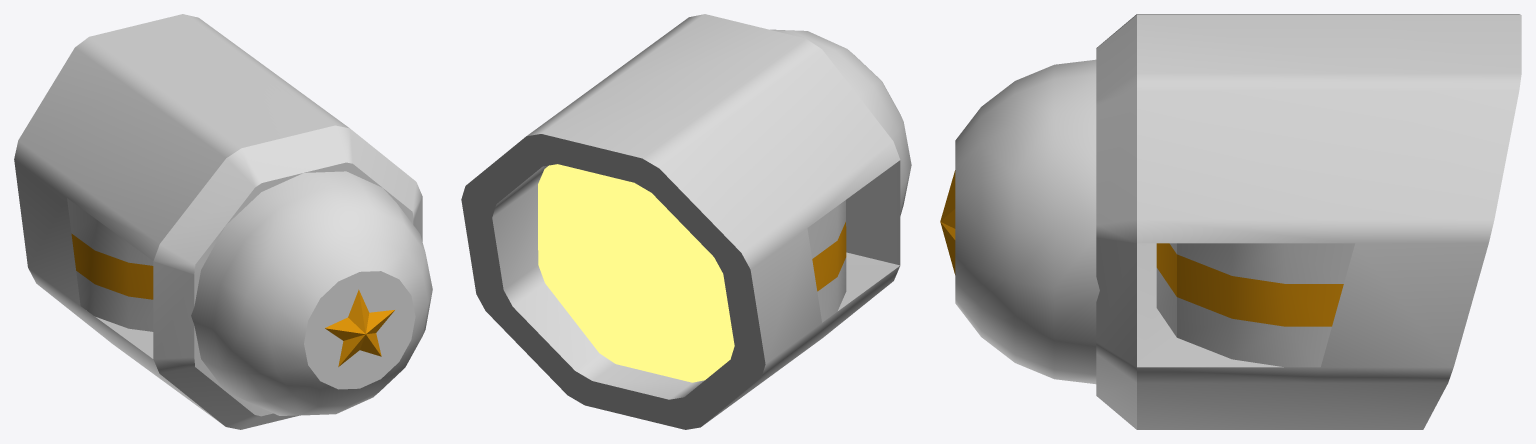
Rendered from obj_dekotora_octalight.fbx.
3 renders of one model, left to right at view 1: azimuth 30°, elevation 25°; view 2: azimuth 150°, elevation 25°; view 3: azimuth 270°, elevation 25°, orthographic. The views are drawn at different scales.
Parts seen in each view (by area): view 1: Sphere.003; view 2: Sphere.003, blendshape.001; view 3: Sphere.003.
Part boxes in pixels (left/top/right/bottom): Sphere.003: left=14, top=14, right=432, bottom=429; Sphere.003: left=461, top=14, right=911, bottom=429; blendshape.001: left=538, top=164, right=734, bottom=382; Sphere.003: left=940, top=14, right=1521, bottom=429.
Bounding box in the file's own units: 2 × 2 × 2.96.
